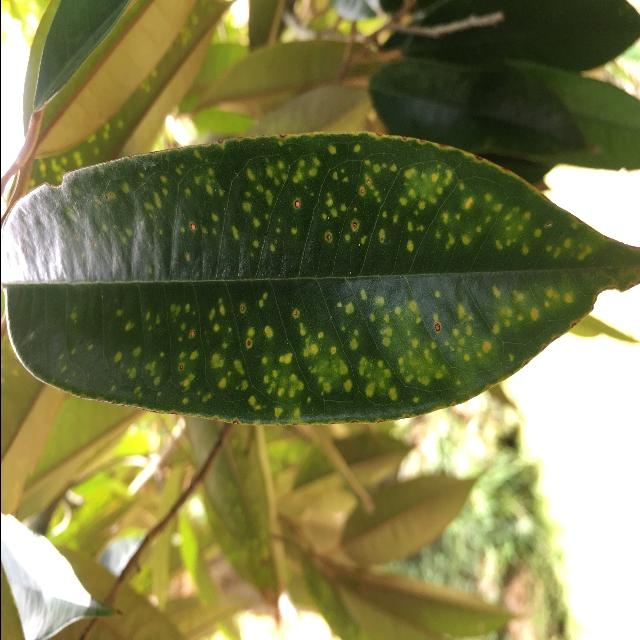Leaf Spot: (0, 123, 640, 433)
